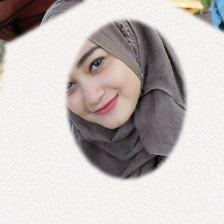Mukena: (14, 27, 224, 224)
